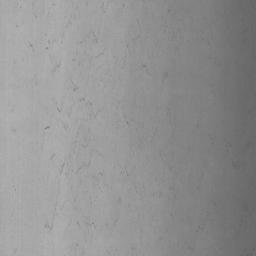Silk spot: (60, 161, 90, 176), (44, 222, 53, 232)
